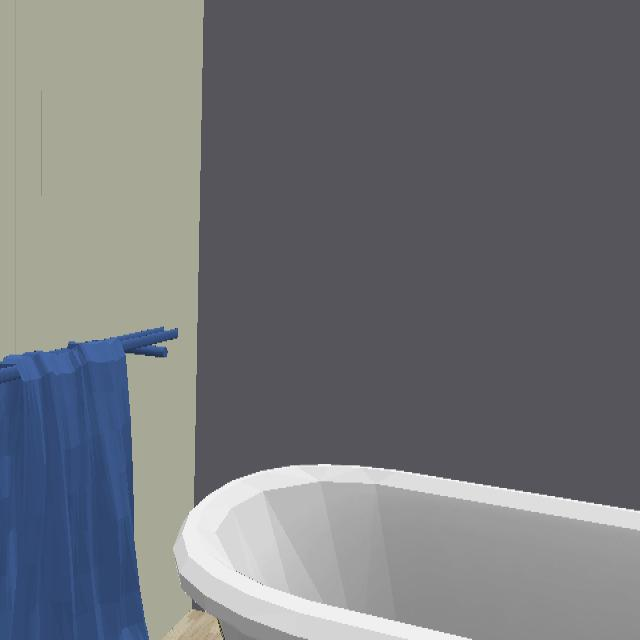bathtube: (171, 464, 640, 640)
